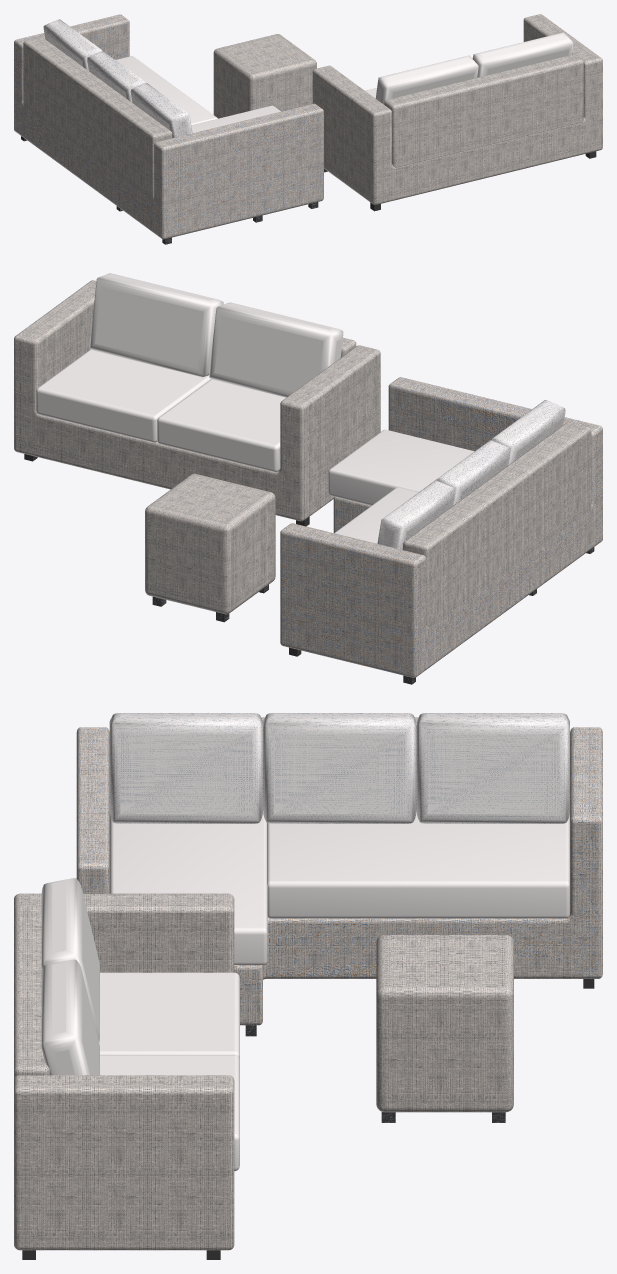
3 views of the same model, one above another, from view 1: azimuth 30°, elevation 25°; view 2: azimuth 150°, elevation 25°; view 3: azimuth 270°, elevation 25° (orthographic). The views are drawn at different scales.
Visible parts, largest first — view 1: group_9, group_3, group_4, group_8, Grupo_6 (×5), group_1, group_7, group_6; view 2: group_9, group_3, Grupo_6 (×5), group_8, Grupo_8 (×2), group_1, group_6, group_7; view 3: Grupo_6 (×5), group_3, group_7, group_9, group_1, Grupo_8 (×2), group_6, group_4.
Part boxes in pixels (<box>): group_9: <box>14,14,323,239</box>; group_3: <box>312,14,602,204</box>; group_4: <box>384,54,583,167</box>; group_8: <box>23,37,172,202</box>; Grupo_6 (×5): <box>43,19,573,137</box>; group_1: <box>213,34,316,118</box>; group_7: <box>116,56,217,124</box>; group_6: <box>191,105,280,132</box>; group_9: <box>280,377,602,677</box>; group_3: <box>14,280,380,521</box>; Grupo_6 (×5): <box>89,273,565,549</box>; group_8: <box>403,422,591,631</box>; Grupo_8 (×2): <box>36,349,285,472</box>; group_1: <box>145,473,275,614</box>; group_6: <box>328,429,474,505</box>; group_7: <box>334,487,418,543</box>; Grupo_6 (×5): <box>41,713,569,1075</box>; group_3: <box>14,893,234,1250</box>; group_7: <box>267,812,569,918</box>; group_9: <box>76,727,602,1025</box>; group_1: <box>376,934,513,1112</box>; Grupo_8 (×2): <box>99,972,239,1171</box>; group_6: <box>109,811,267,965</box>; group_4: <box>14,905,49,1079</box>.
Size of the model in its own units: 123 by 84.2 by 36.28.
Materials: 7 (3 with a texture image).
